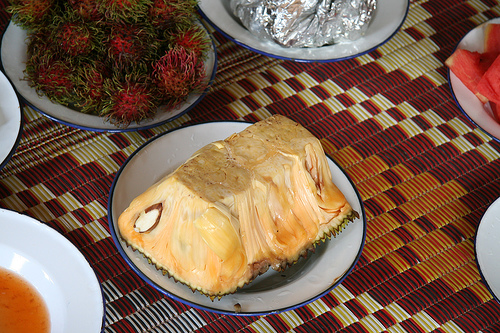jackfruit: (116, 113, 361, 303)
